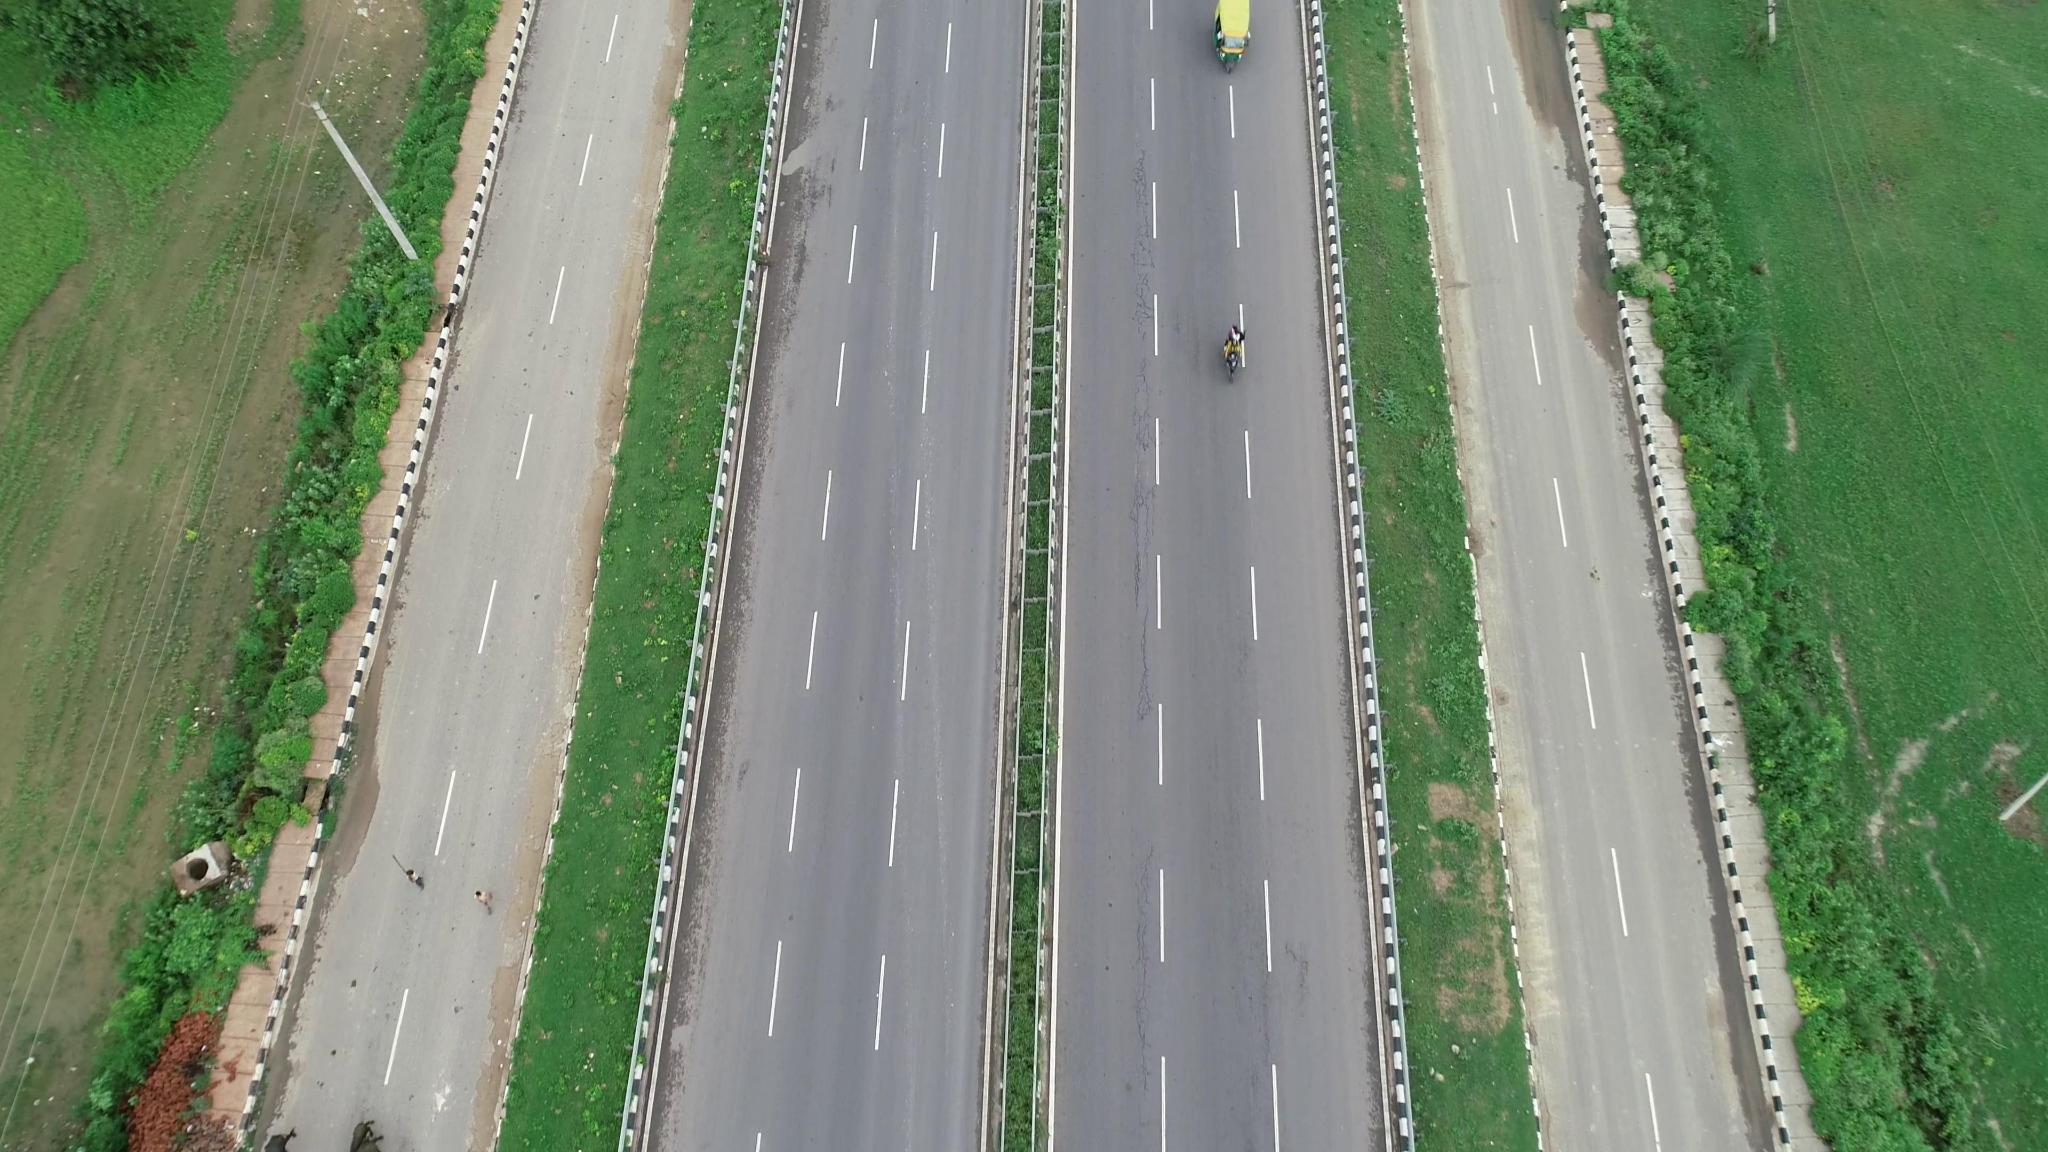Cracks: (1128, 148, 1162, 726)
